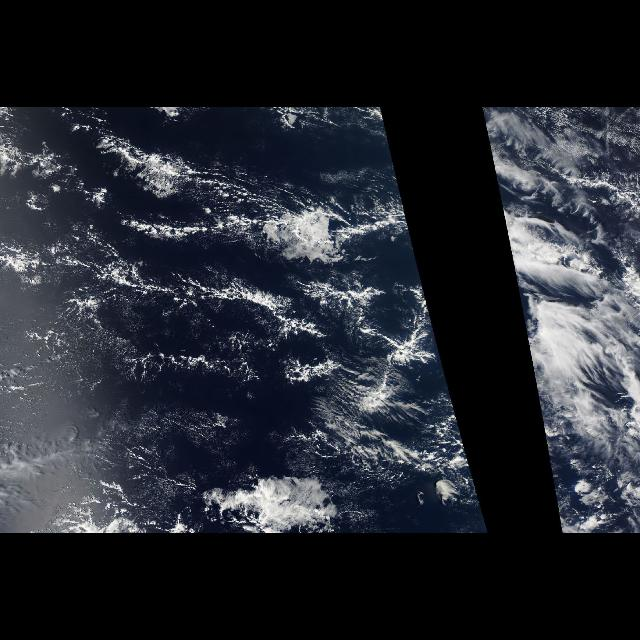Fish: (26, 184, 378, 326)
Gravel: (94, 170, 438, 450)
